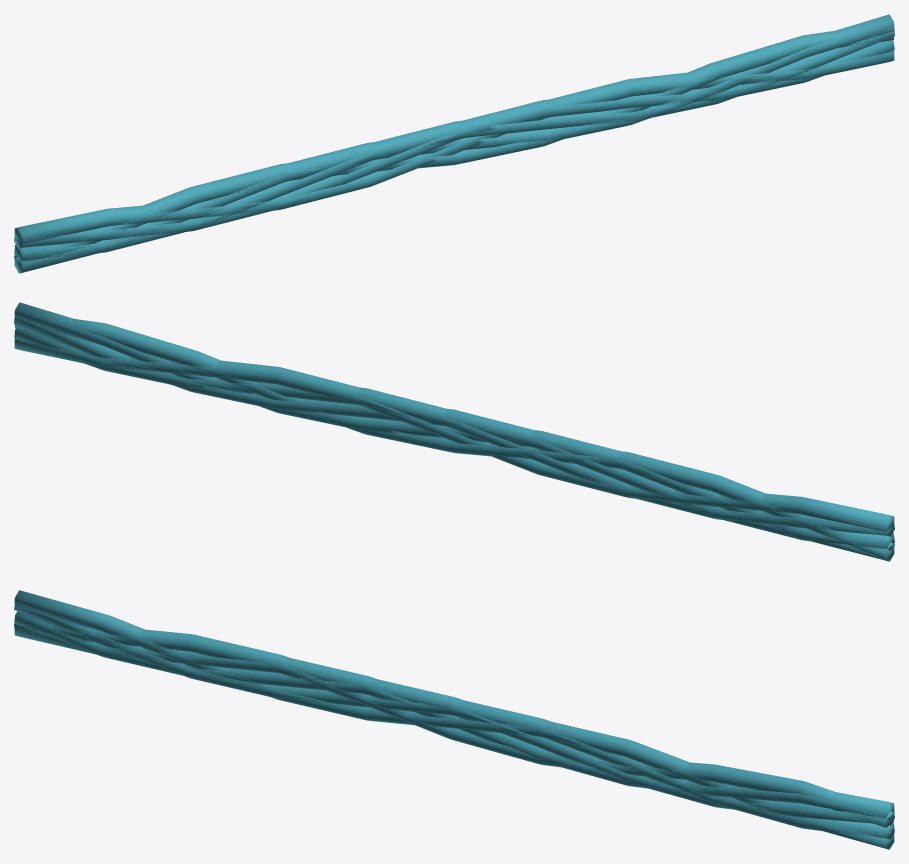
Rendered from deep-water.glb.
The picture shows the model from 3 angles, top to bottom: view 1: azimuth 30°, elevation 25°; view 2: azimuth 150°, elevation 25°; view 3: azimuth 330°, elevation 25°; orthographic projection.
Visible parts, largest first — view 1: deep-water; view 2: deep-water; view 3: deep-water.
Boxes of the visible parts, left/top/right/bottom form: deep-water: left=14, top=14, right=894, bottom=273; deep-water: left=14, top=302, right=894, bottom=561; deep-water: left=14, top=590, right=894, bottom=849.
Bounding box in the file's own units: 1.2 × 0.063 × 0.0208.
